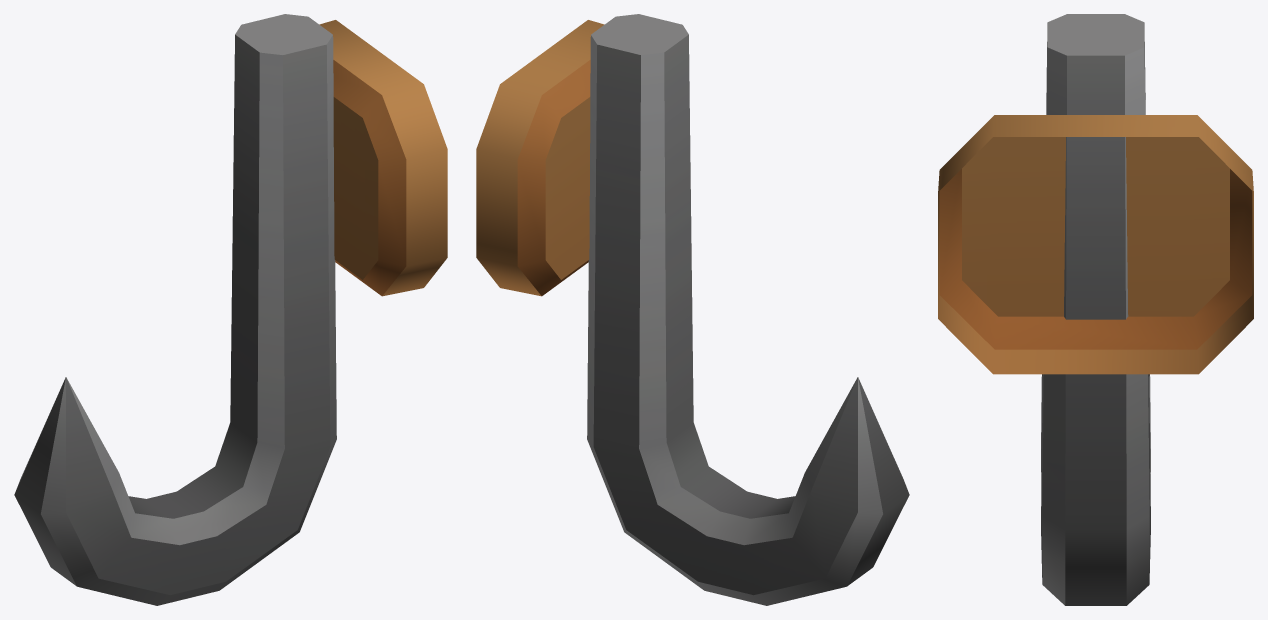
File: Hook_001.glb
3 renders of one model, left to right at view 1: azimuth 30°, elevation 25°; view 2: azimuth 150°, elevation 25°; view 3: azimuth 270°, elevation 25°, orthographic. The views are drawn at different scales.
Visible parts, largest first — view 1: Hook.001; view 2: Hook.001; view 3: Hook.001.
Part boxes in pixels (x1=…): Hook.001: x1=14, y1=14, x2=447, y2=605; Hook.001: x1=476, y1=14, x2=909, y2=605; Hook.001: x1=938, y1=14, x2=1253, y2=605.
Bounding box in the file's own units: 0.1647 × 0.2355 × 0.1096.
Materials: 2 (2 with a texture image).
